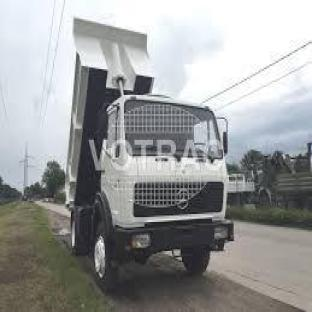Vehicle: (58, 14, 242, 287)
